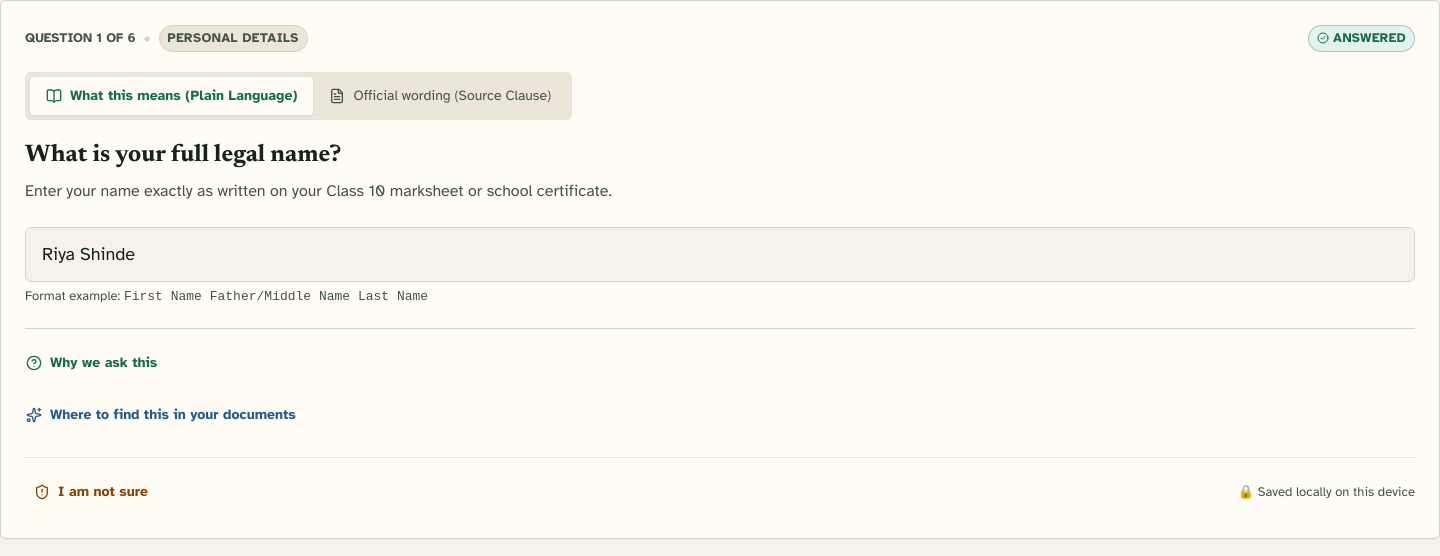
Test: PlainOfficialCard Signature Component › switches to official wording layer and displays source clause pointer
The image size is (1440, 556).
What coordinates should you click on to do the following:
click the tab "Official wording (Source Clause)"
I would click on:
 (440, 96)
Its box is [314, 77, 567, 115].
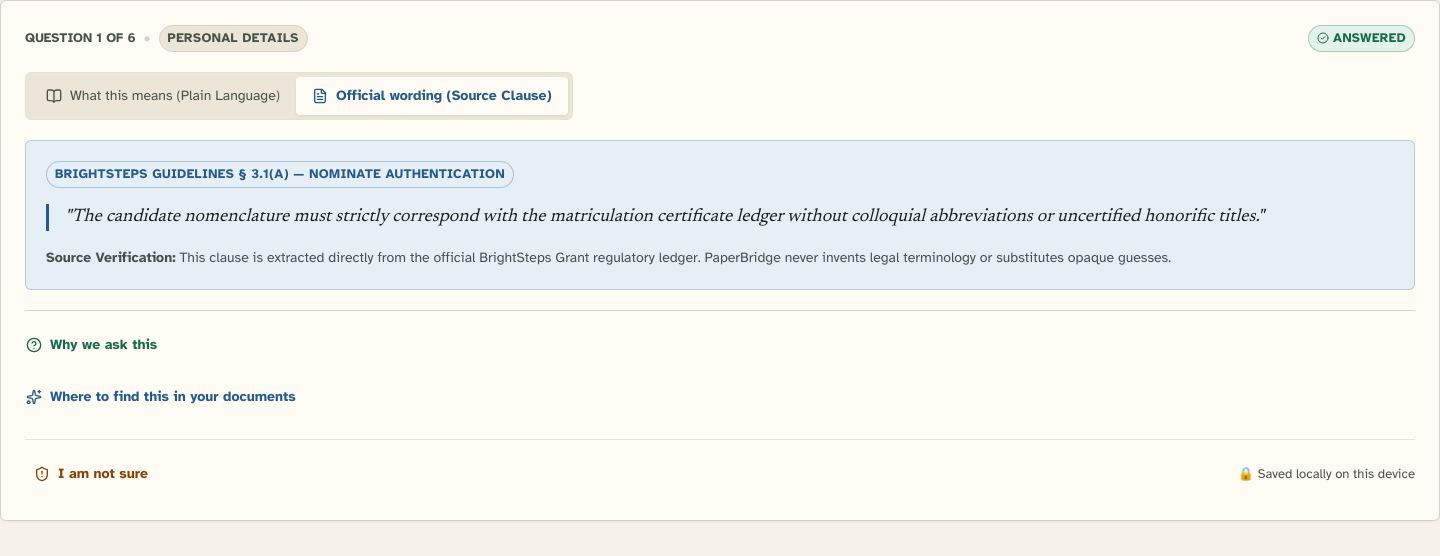
Check: the text "candidate nomenclature must strictly correspond" is shown, box [71, 208, 1258, 226]
Check: the text "BrightSteps Guidelines § 3.1(a) — Nominate Authentication" is shown, box [46, 161, 514, 188]
